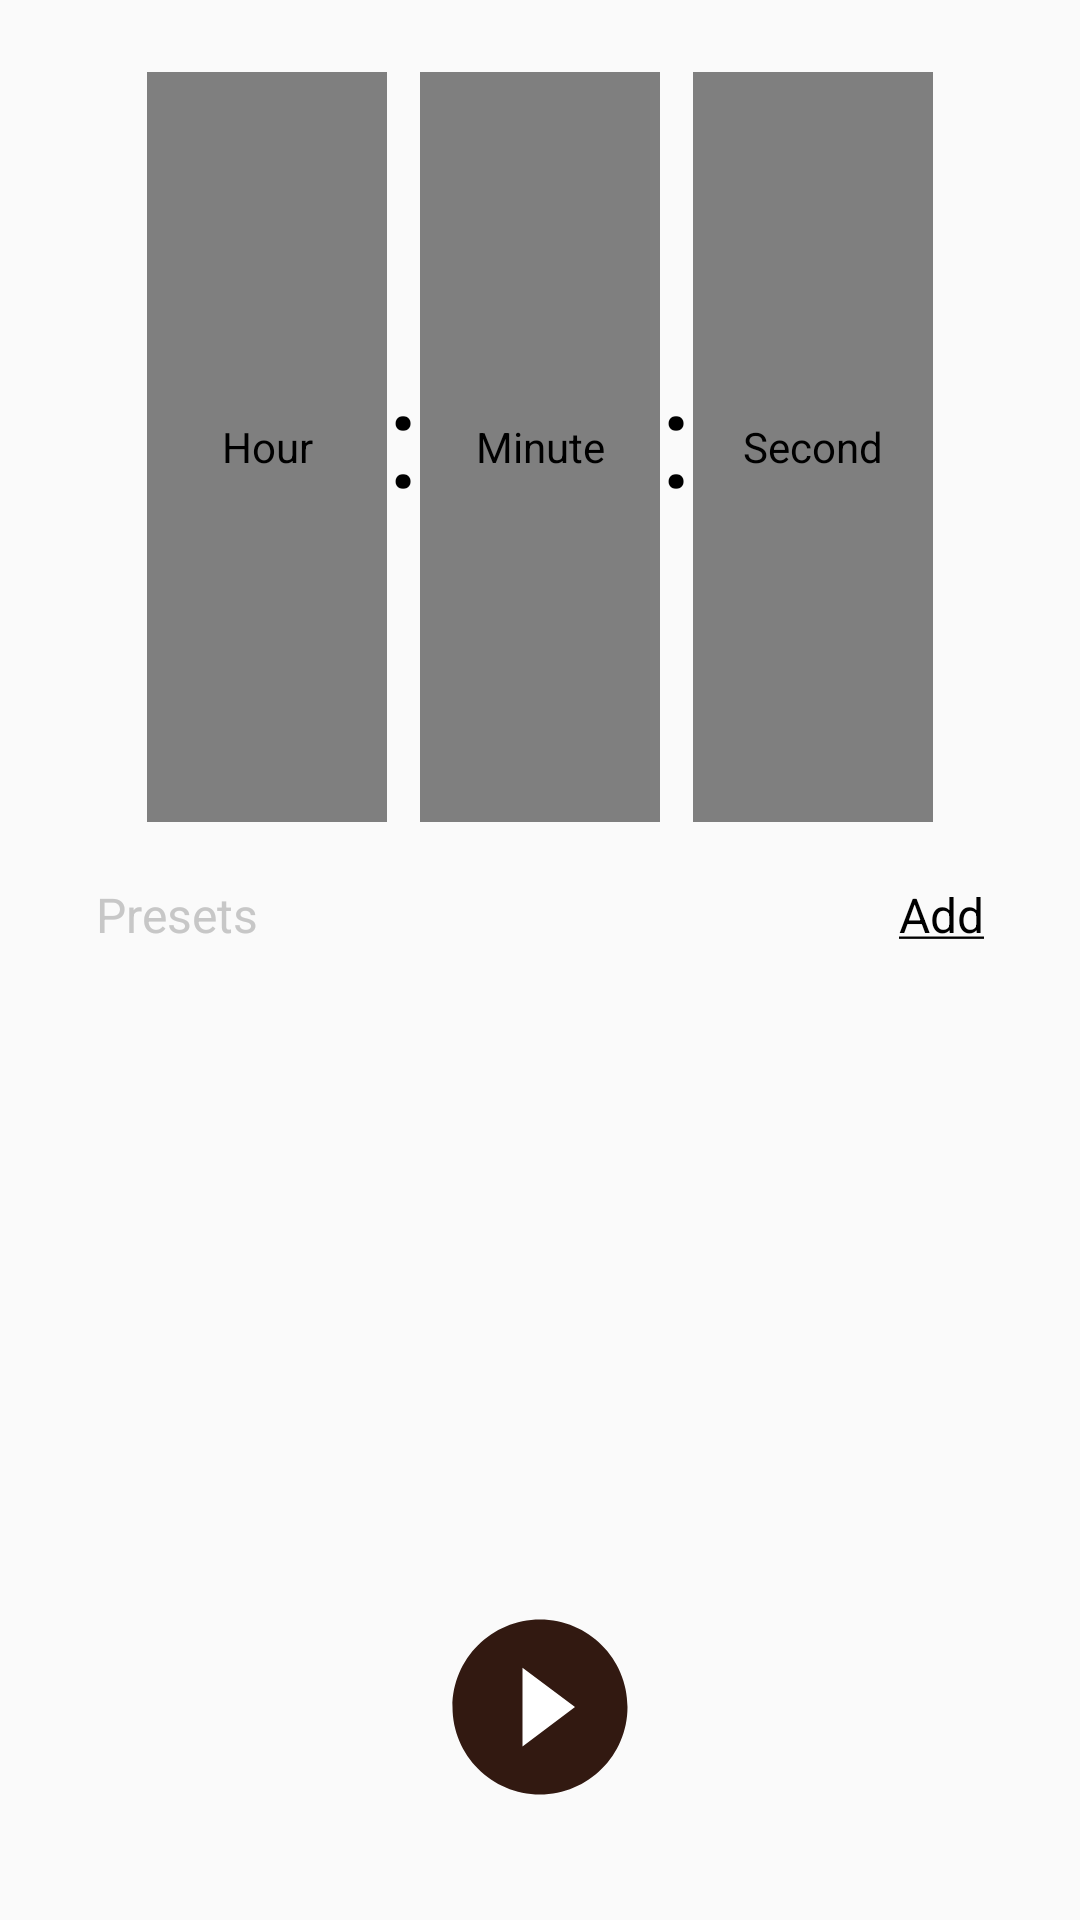

Locate icon controls on the screen. Image size 1080 x 1920, boxes as (x1, y1, x2, y2).
Start timer: (452, 1619, 628, 1795)
